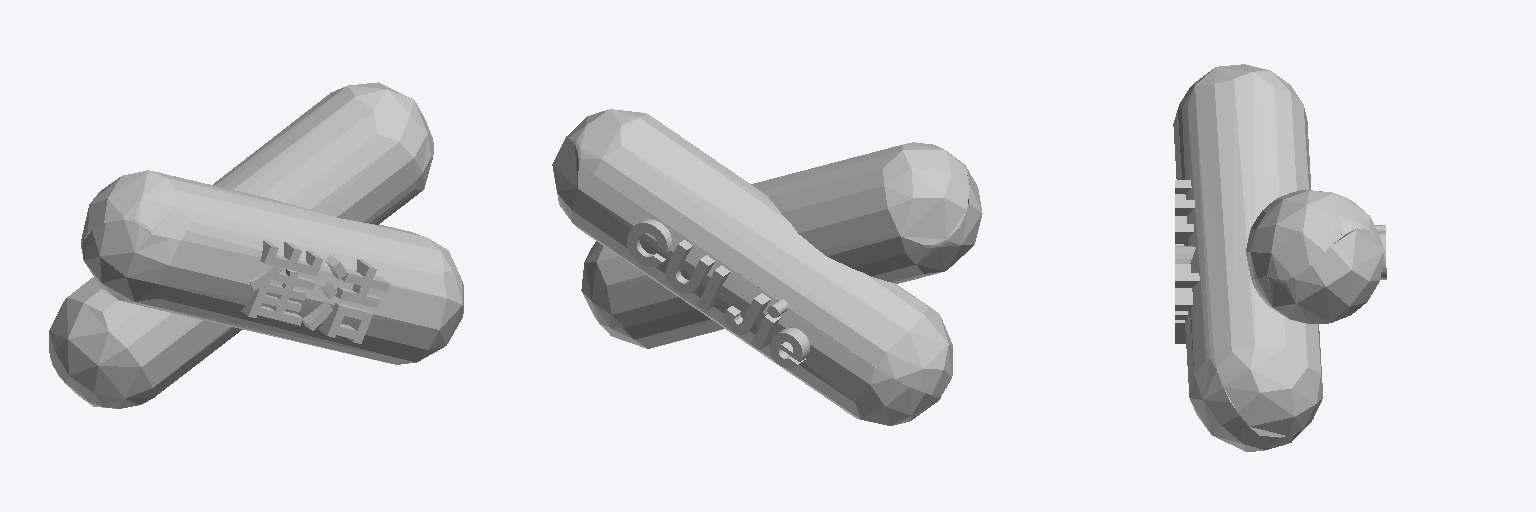
The model's file is CuiJie.obj.
3 views of the same model, side by side, from view 1: azimuth 30°, elevation 25°; view 2: azimuth 150°, elevation 25°; view 3: azimuth 270°, elevation 25° (orthographic).
Visible parts, largest first — view 1: root_3, root_2, node_id223; view 2: root_2, root_3, node_id234; view 3: root_3, root_2, node_id223.
Boxes of the visible parts, <box> form: root_3: <box>81,170,463,364</box>; root_2: <box>49,82,433,408</box>; node_id223: <box>241,240,389,343</box>; root_2: <box>552,109,952,425</box>; root_3: <box>581,142,982,348</box>; node_id234: <box>627,219,809,368</box>; root_3: <box>1173,64,1322,451</box>; root_2: <box>1246,190,1384,323</box>; node_id223: <box>1175,180,1199,343</box>.
Bounding box in the file's own units: 0.289 × 0.1836 × 0.1417.